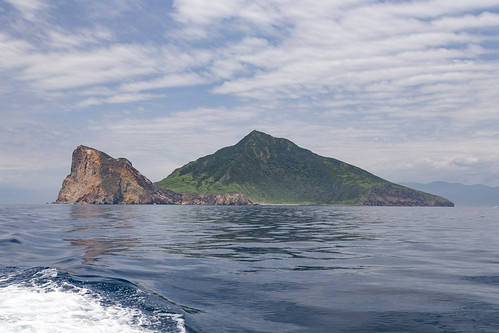turtleIslandLeft: (62, 121, 461, 209)
